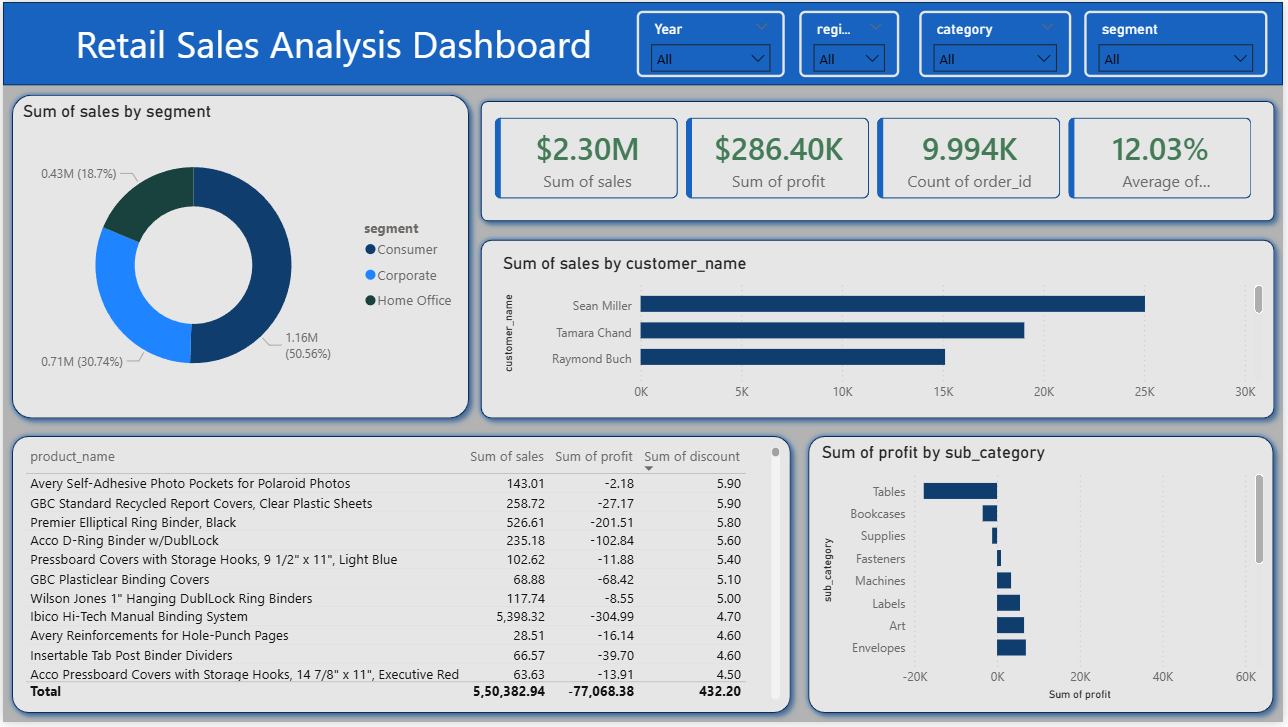

Layout of this report page (visuals, bound fields, positions):
{"tool":"powerbi","page":{"name":"Duplicate of Performance overview","canvas":[1280,720],"ordinal":1},"visuals":[{"type":"shape","box":[468.3,90,811.7,138.3],"z":0},{"type":"shape","box":[796.7,425,483.3,295],"z":1000},{"type":"shape","box":[468.3,228.3,811.7,196.7],"z":3000},{"type":"shape","box":[0,83.3,475,341.7],"z":5000},{"type":"shape","box":[0,425,796.7,295],"z":6000},{"type":"cardVisual","fields":{"Data":["retail_sales retail.sales","retail_sales retail.profit","retail_sales retail.order_id","retail_sales retail.profit_margin"]},"box":[475,98.3,790,115],"z":7000},{"type":"shape","box":[0,0,1280,83.3],"z":13000},{"type":"textbox","box":[0,11.7,661.7,66.7],"z":14000},{"type":"slicer","fields":{"Values":["retail_sales retail.order_date.Variation.Date Hierarchy.Year"]},"box":[633.3,8.3,148.3,66.7],"z":16000},{"type":"slicer","fields":{"Values":["retail_sales retail.region"]},"box":[796.7,8.3,100,66.7],"z":17000},{"type":"slicer","fields":{"Values":["retail_sales retail.category"]},"box":[916.7,8.3,151.7,66.7],"z":18000},{"type":"slicer","fields":{"Values":["retail_sales retail.segment"]},"box":[1081.7,8.3,183.3,66.7],"z":19000},{"type":"clusteredBarChart","fields":{"Category":["retail_sales retail.customer_name"],"Y":["retail_sales retail.sales"]},"box":[495,251.7,770,156.7],"z":19001},{"type":"donutChart","fields":{"Category":["retail_sales retail.segment"],"Y":["retail_sales retail.sales"]},"box":[15,98.3,448.3,310],"z":19002},{"type":"tableEx","fields":{"Values":["retail_sales retail.product_name","retail_sales retail.sales","retail_sales retail.profit","retail_sales retail.discount"]},"box":[15.7,440,765.7,262.9],"z":19003},{"type":"clusteredBarChart","fields":{"Category":["retail_sales retail.sub_category"],"Y":["retail_sales retail.profit"]},"box":[813.3,440,451.7,263.3],"z":19004}]}

Visuals, with their boxes in screenshot pixels (x1, y1, x2, y2), scaled from the page's 1280x720 canvas onto the 1288x727 screenshot:
shape: detection(471, 91, 1287, 231)
shape: detection(802, 429, 1287, 726)
shape: detection(471, 231, 1287, 429)
shape: detection(0, 84, 478, 429)
shape: detection(0, 429, 802, 726)
cardVisual - retail_sales retail.sales x retail_sales retail.profit: detection(478, 99, 1273, 215)
shape: detection(0, 0, 1287, 84)
textbox: detection(0, 12, 666, 79)
slicer - retail_sales retail.order_date.Variation.Date Hierarchy.Year: detection(637, 8, 786, 76)
slicer - retail_sales retail.region: detection(802, 8, 902, 76)
slicer - retail_sales retail.category: detection(922, 8, 1075, 76)
slicer - retail_sales retail.segment: detection(1088, 8, 1273, 76)
clusteredBarChart - retail_sales retail.customer_name x retail_sales retail.sales: detection(498, 254, 1273, 412)
donutChart - retail_sales retail.segment x retail_sales retail.sales: detection(15, 99, 466, 412)
tableEx - retail_sales retail.product_name x retail_sales retail.sales: detection(16, 444, 786, 710)
clusteredBarChart - retail_sales retail.sub_category x retail_sales retail.profit: detection(818, 444, 1273, 710)
